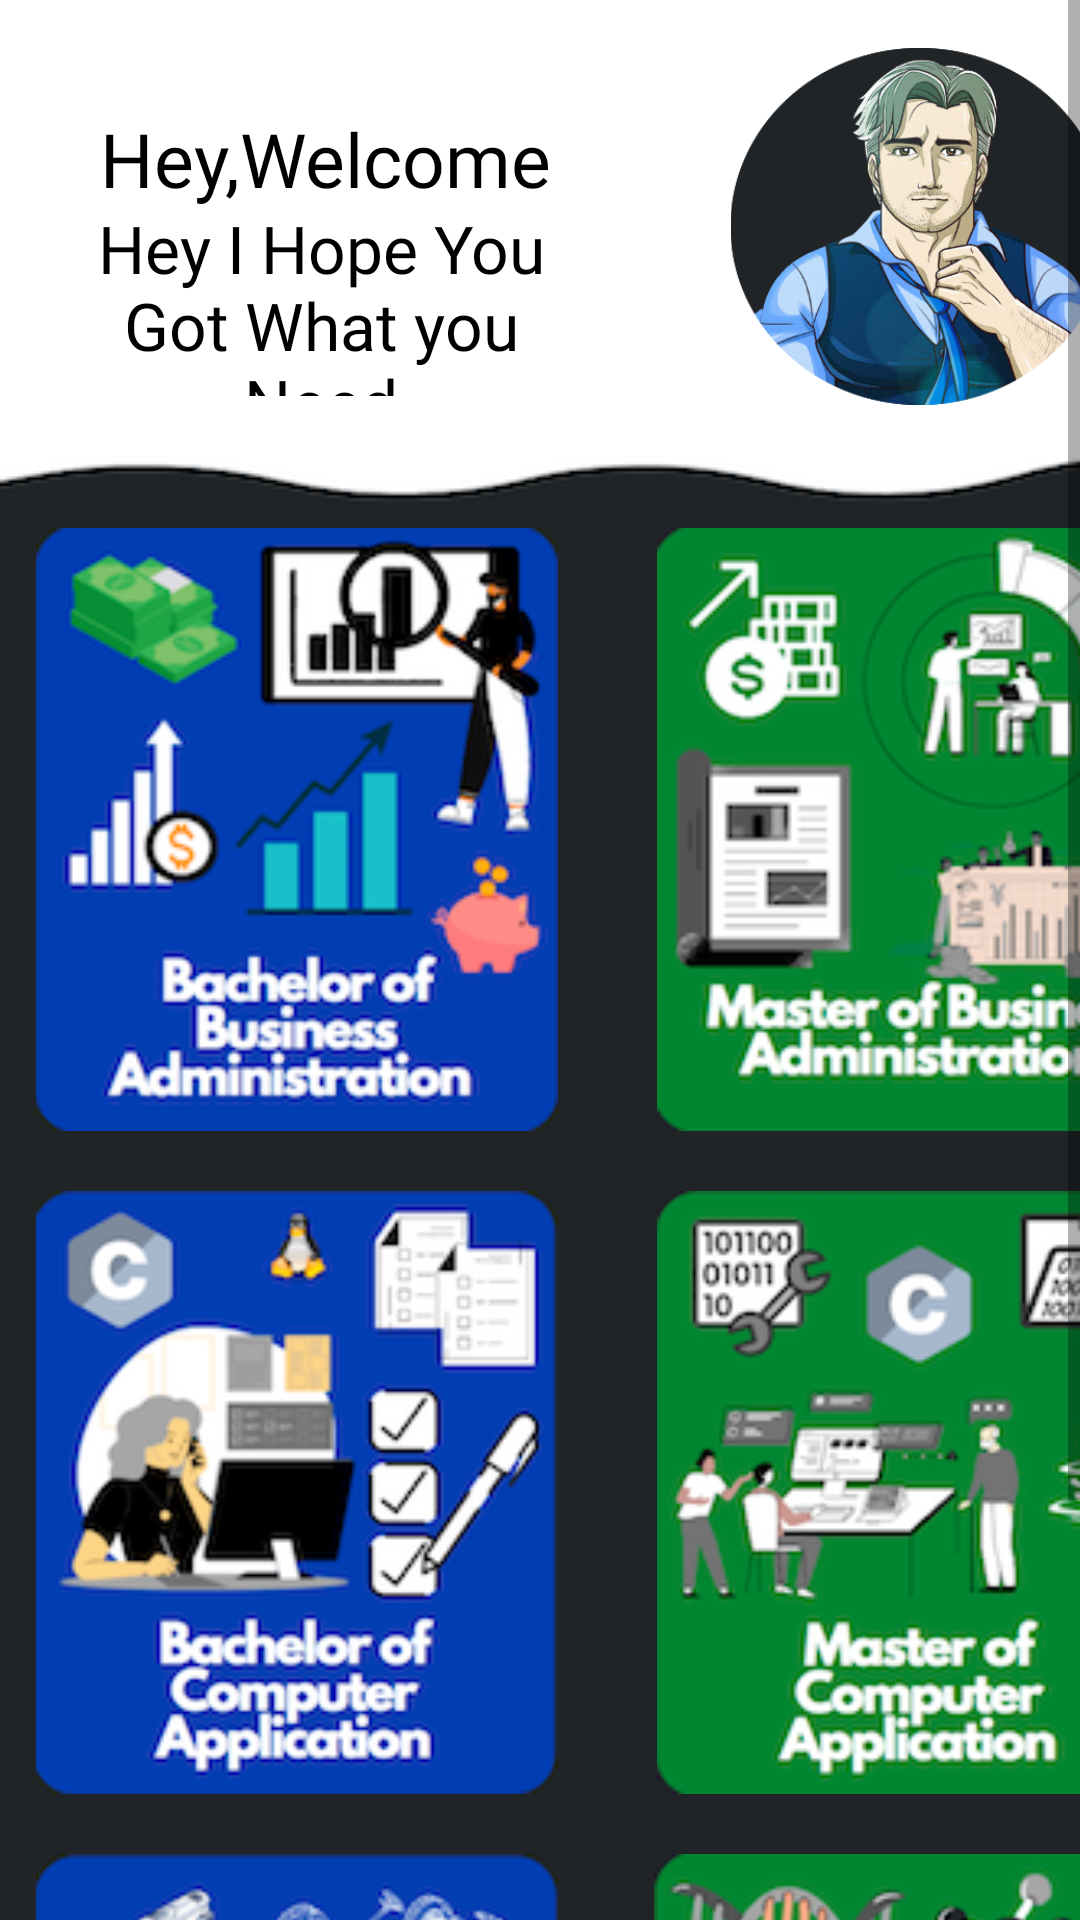

Named icons in this screenshot (1080*1920) and their centers, point (x, y):
profile: point (905, 226)
